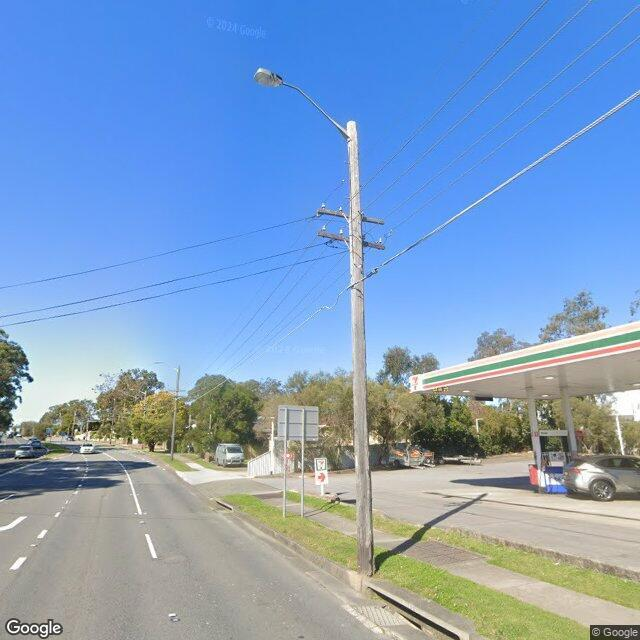crossarm: (318, 225, 386, 251), (317, 201, 385, 225)
streetlight: (253, 67, 351, 141), (153, 361, 179, 371)
timber-pole: (346, 122, 376, 576), (170, 366, 180, 460)
